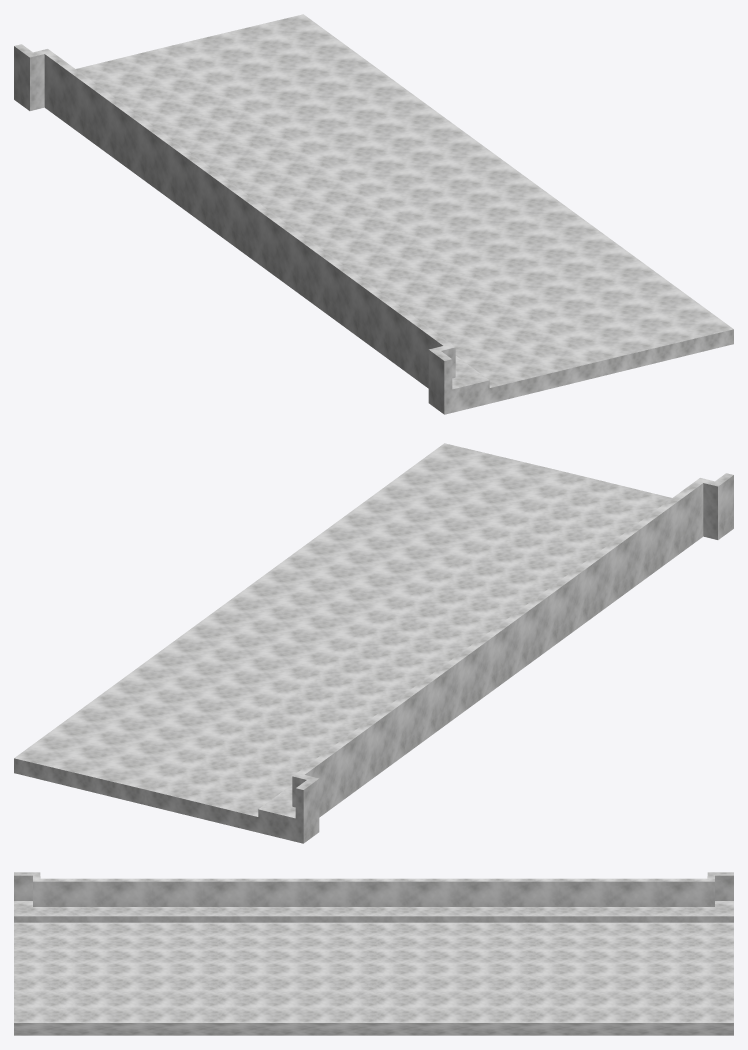
Rendered from AMB_HT_R_KONKURI100.glb.
3 views of the same model, one above another, from view 1: azimuth 30°, elevation 25°; view 2: azimuth 150°, elevation 25°; view 3: azimuth 270°, elevation 25° (orthographic). The views are drawn at different scales.
Parts seen in each view (by area): view 1: obj7; view 2: obj7; view 3: obj7.
Part boxes in pixels (left/top/right/bottom): obj7: left=14, top=14, right=733, bottom=414; obj7: left=14, top=443, right=733, bottom=843; obj7: left=14, top=872, right=733, bottom=1035.
Bounding box in the file's own units: 38.83 × 6.88 × 100.
1 material, 1 textured.
